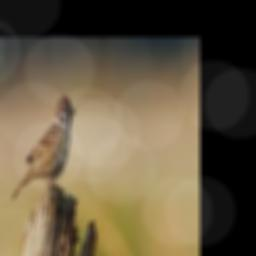Sparrow: (11, 95, 75, 201)
